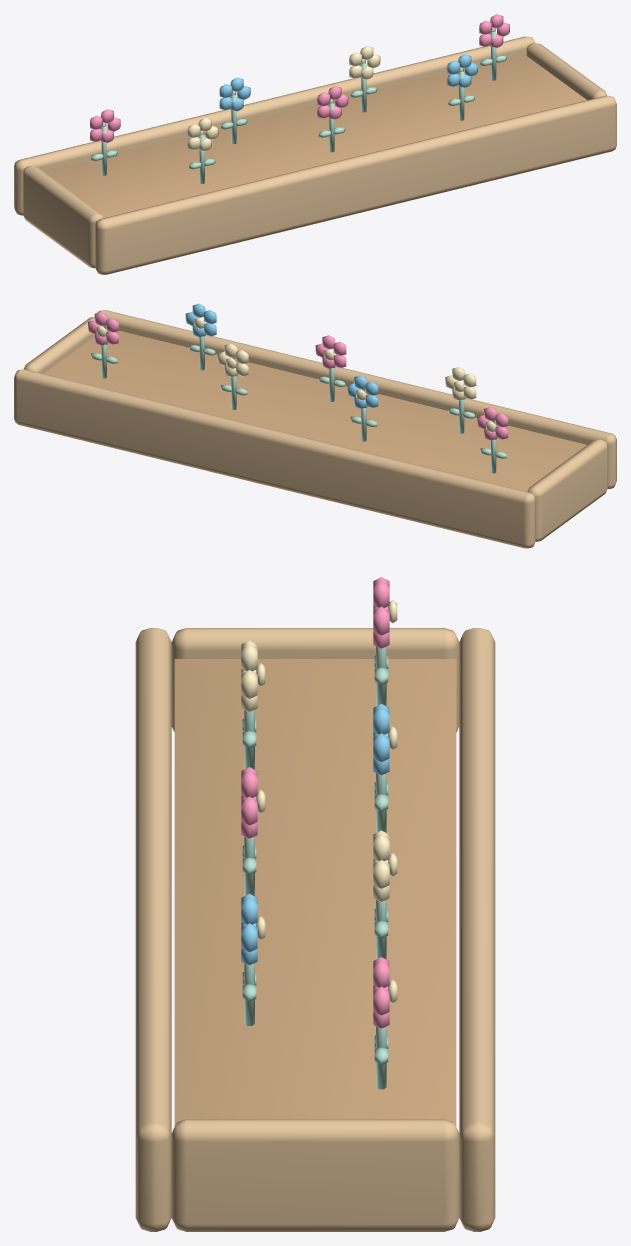
File: flower_bed.glb
3 views of the same model, one above another, from view 1: azimuth 30°, elevation 25°; view 2: azimuth 150°, elevation 25°; view 3: azimuth 270°, elevation 25° (orthographic). The views are drawn at different scales.
Parts seen in each view (by area): view 1: Body; view 2: Body; view 3: Body.
Part boxes in pixels (bbox=[...]): Body: bbox=[14, 14, 616, 274]; Body: bbox=[14, 303, 616, 548]; Body: bbox=[135, 577, 495, 1231].
Bounding box in the file's own units: 2 × 0.4 × 0.6.
6 materials, 6 textured.
